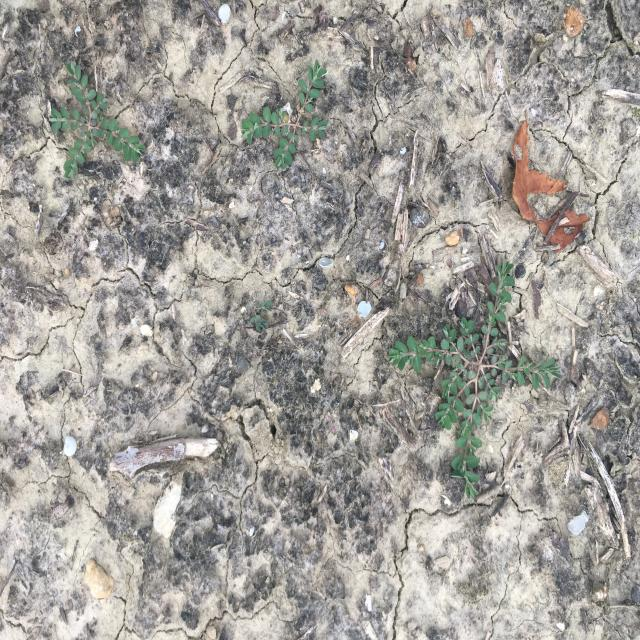SpottedSpurge: (386, 255, 563, 499), (46, 61, 146, 180), (240, 58, 328, 172)
